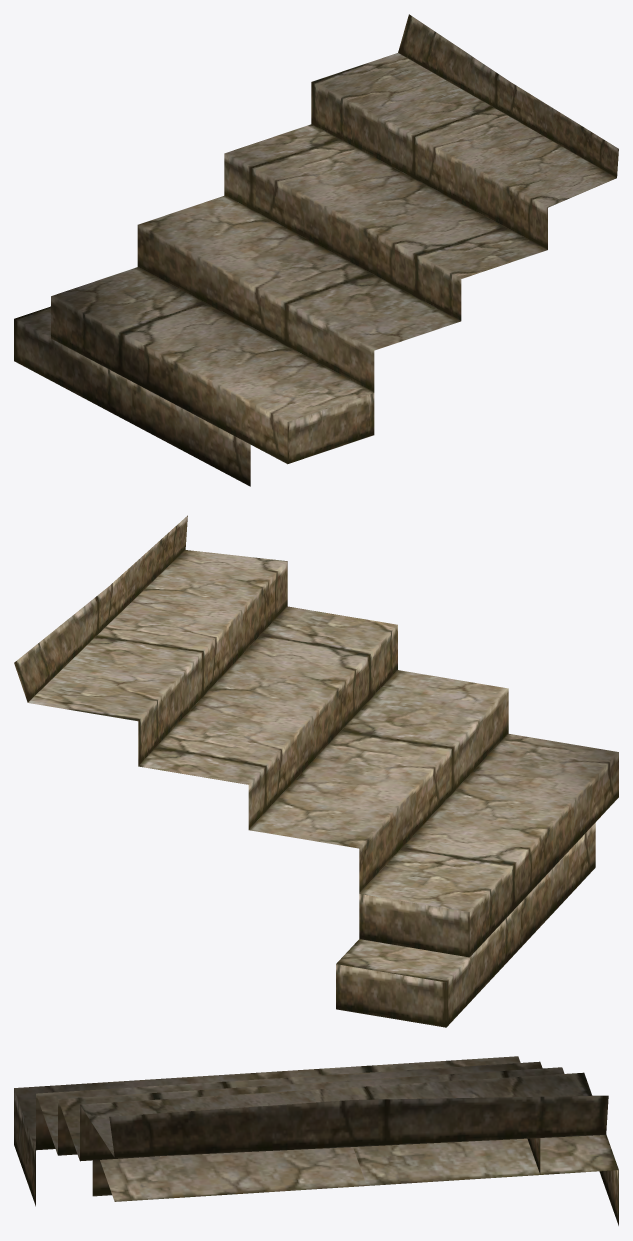
The model's file is OVERHILL_A_01_OBJECT63.fbx.
3 renders of one model, top to bottom at view 1: azimuth 30°, elevation 25°; view 2: azimuth 150°, elevation 25°; view 3: azimuth 270°, elevation 25°, orthographic. The views are drawn at different scales.
Parts seen in each view (by area): view 1: OVERHILL_A_01_OBJECT63; view 2: OVERHILL_A_01_OBJECT63; view 3: OVERHILL_A_01_OBJECT63.
Boxes of the visible parts, bbox=[...] form: OVERHILL_A_01_OBJECT63: bbox=[14, 14, 618, 486]; OVERHILL_A_01_OBJECT63: bbox=[14, 515, 618, 1027]; OVERHILL_A_01_OBJECT63: bbox=[14, 1056, 618, 1225].
Size of the model in its own units: 29720 by 16532 by 27434.
1 material, 1 textured.
